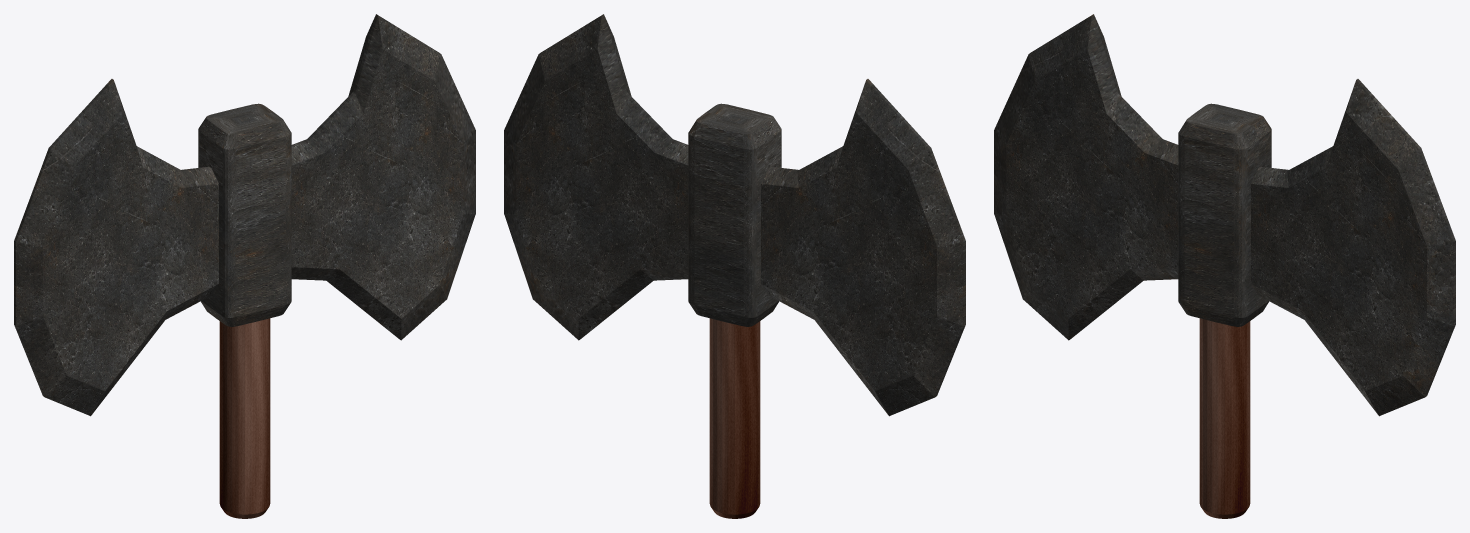
The model's file is broad_blade.obj.
3 views of the same model, side by side, from view 1: azimuth 30°, elevation 25°; view 2: azimuth 150°, elevation 25°; view 3: azimuth 330°, elevation 25° (orthographic).
Parts seen in each view (by area): view 1: wing_left, wing_right, hub, wood_stub; view 2: wing_left, wing_right, hub, wood_stub; view 3: wing_right, wing_left, hub, wood_stub.
Part boxes in pixels (box(x1,y1,x2,y2)): wing_left: box(14, 79, 218, 416); wing_right: box(291, 14, 475, 340); hub: box(198, 103, 291, 326); wood_stub: box(219, 318, 270, 518); wing_left: box(761, 79, 965, 416); wing_right: box(504, 14, 688, 340); hub: box(688, 103, 781, 326); wood_stub: box(709, 318, 760, 518); wing_right: box(1251, 79, 1455, 416); wing_left: box(994, 14, 1178, 340); hub: box(1178, 103, 1271, 326); wood_stub: box(1199, 318, 1250, 518).
Size of the model in its own units: 101 by 97.21 by 12.12.
Materials: 2 (2 with a texture image).
